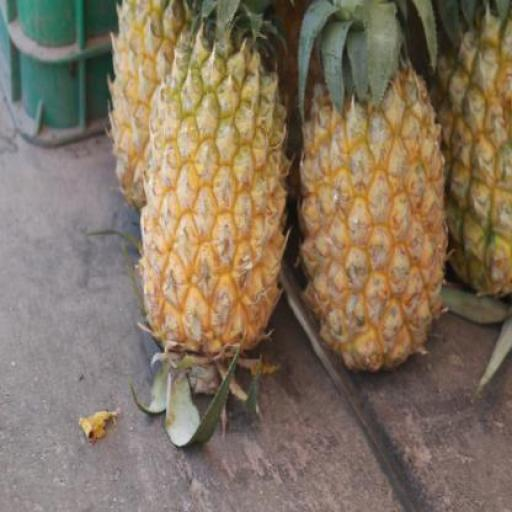Pineapple - v8 v1: (140, 31, 285, 354), (297, 60, 446, 361), (114, 0, 212, 203)
